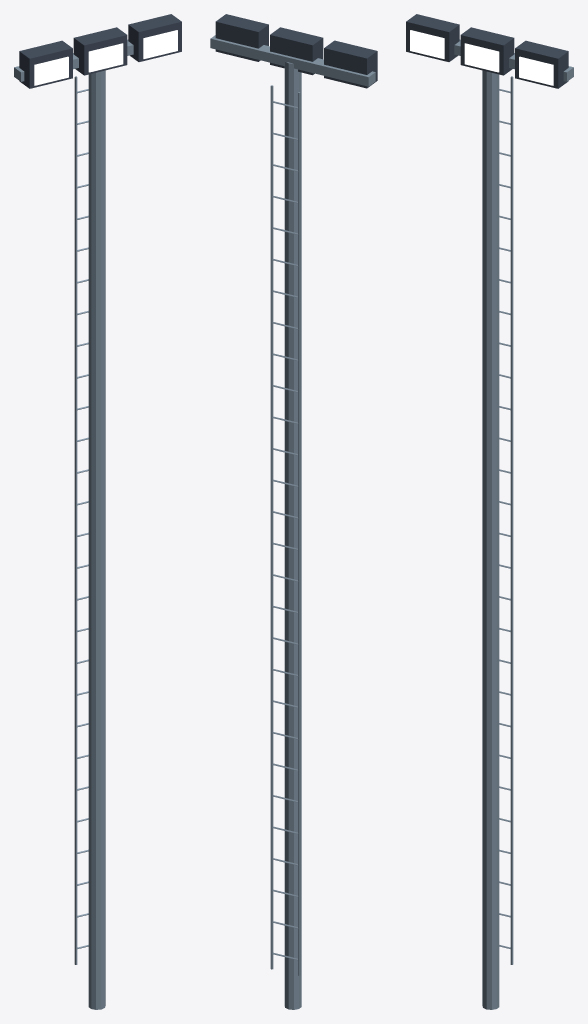
The model's file is floodlight-tower.glb.
3 renders of one model, left to right at view 1: azimuth 30°, elevation 25°; view 2: azimuth 150°, elevation 25°; view 3: azimuth 330°, elevation 25°, orthographic.
Visible parts, largest first — view 1: floodlight-tower; view 2: floodlight-tower; view 3: floodlight-tower.
Boxes of the visible parts, x1=… form: floodlight-tower: x1=14, y1=14, x2=181, y2=1009; floodlight-tower: x1=210, y1=14, x2=377, y2=1009; floodlight-tower: x1=406, y1=14, x2=573, y2=1009.
Bounding box in the file's own units: 2.1 × 12.27 × 0.4.
